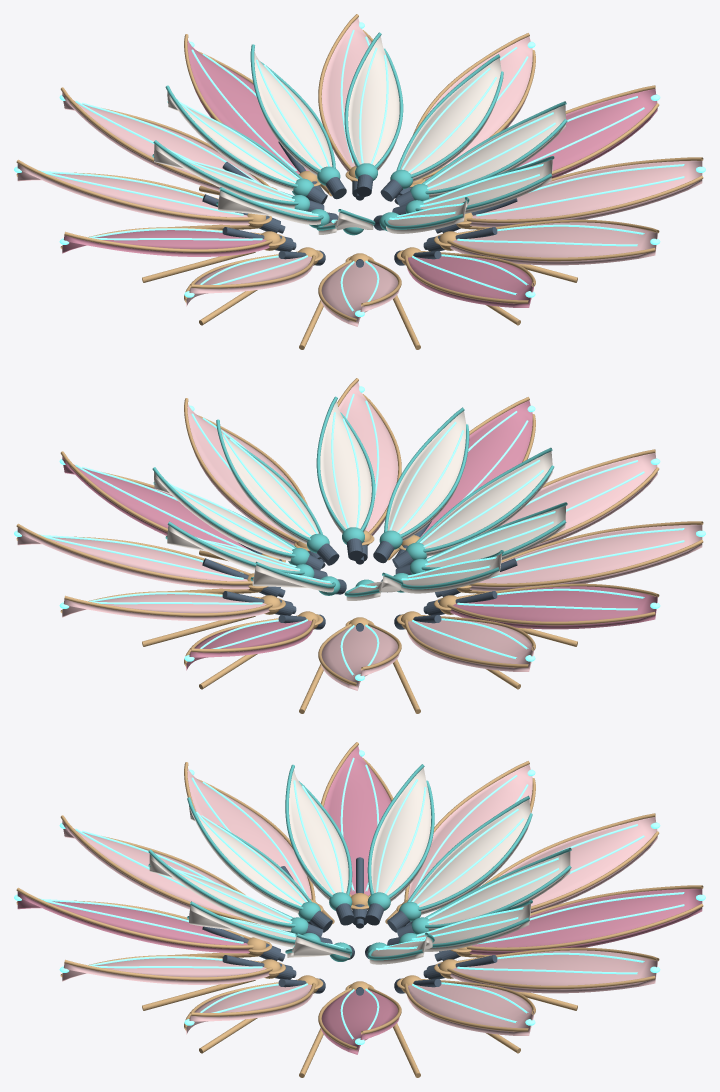
File: parametric_petals_12.glb
The picture shows the model from 3 angles, top to bottom: view 1: azimuth 30°, elevation 25°; view 2: azimuth 150°, elevation 25°; view 3: azimuth 270°, elevation 25°; orthographic projection.
Parts seen in each view (by area): view 1: DISPLAY_06_07_•_Opal_pink, DISPLAY_00_02_•_Pearl_ivory, DISPLAY_05_03_•_Champagne_bronze, DISPLAY_04_06_•_Rosy_ceramic, DISPLAY_02_11_•_Ion_emission_blue, DISPLAY_01_08_•_Jade_enamel, DISPLAY_03_04_•_Graphite_titanium; view 2: DISPLAY_06_07_•_Opal_pink, DISPLAY_00_02_•_Pearl_ivory, DISPLAY_05_03_•_Champagne_bronze, DISPLAY_04_06_•_Rosy_ceramic, DISPLAY_02_11_•_Ion_emission_blue, DISPLAY_01_08_•_Jade_enamel, DISPLAY_03_04_•_Graphite_titanium; view 3: DISPLAY_06_07_•_Opal_pink, DISPLAY_00_02_•_Pearl_ivory, DISPLAY_04_06_•_Rosy_ceramic, DISPLAY_05_03_•_Champagne_bronze, DISPLAY_02_11_•_Ion_emission_blue, DISPLAY_01_08_•_Jade_enamel, DISPLAY_03_04_•_Graphite_titanium.
Boxes of the visible parts, x1,y1,x2,y2 form: DISPLAY_06_07_•_Opal_pink: (17, 18, 702, 326); DISPLAY_00_02_•_Pearl_ivory: (154, 36, 565, 234); DISPLAY_05_03_•_Champagne_bronze: (16, 14, 703, 349); DISPLAY_04_06_•_Rosy_ceramic: (62, 40, 657, 307); DISPLAY_02_11_•_Ion_emission_blue: (14, 22, 705, 316); DISPLAY_01_08_•_Jade_enamel: (152, 32, 567, 235); DISPLAY_03_04_•_Graphite_titanium: (202, 141, 517, 267); DISPLAY_06_07_•_Opal_pink: (17, 382, 702, 690); DISPLAY_00_02_•_Pearl_ivory: (154, 401, 565, 600); DISPLAY_05_03_•_Champagne_bronze: (16, 378, 703, 713); DISPLAY_04_06_•_Rosy_ceramic: (62, 400, 657, 670); DISPLAY_02_11_•_Ion_emission_blue: (14, 386, 705, 680); DISPLAY_01_08_•_Jade_enamel: (152, 396, 567, 596); DISPLAY_03_04_•_Graphite_titanium: (202, 521, 517, 631); DISPLAY_06_07_•_Opal_pink: (62, 764, 657, 1035); DISPLAY_00_02_•_Pearl_ivory: (149, 768, 570, 964); DISPLAY_04_06_•_Rosy_ceramic: (17, 746, 702, 1054); DISPLAY_05_03_•_Champagne_bronze: (16, 742, 703, 1077); DISPLAY_02_11_•_Ion_emission_blue: (14, 750, 705, 1044); DISPLAY_01_08_•_Jade_enamel: (148, 764, 571, 961); DISPLAY_03_04_•_Graphite_titanium: (202, 857, 497, 995).
Bounding box in the file's own units: 9.54 × 2.09 × 9.54.
